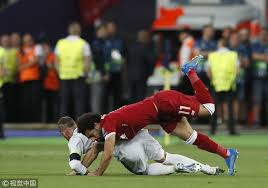10+: (1, 14, 268, 178)
down: (80, 61, 236, 169), (56, 116, 181, 178)
